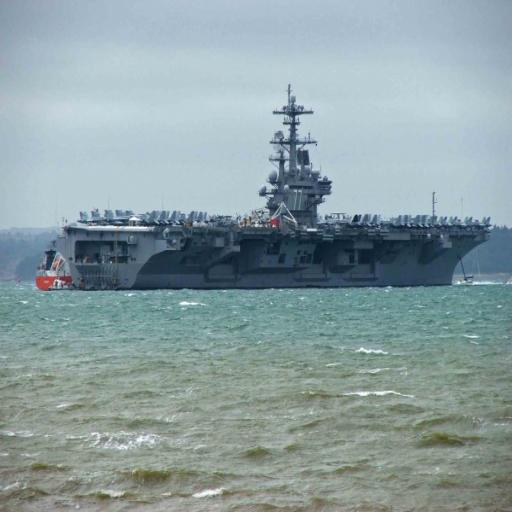Portanaves: (53, 83, 497, 289)
